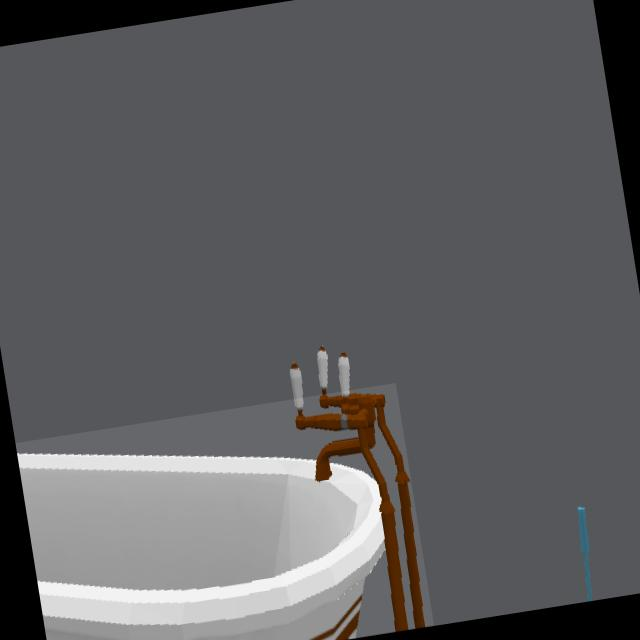bathtube: (18, 395, 425, 640)
